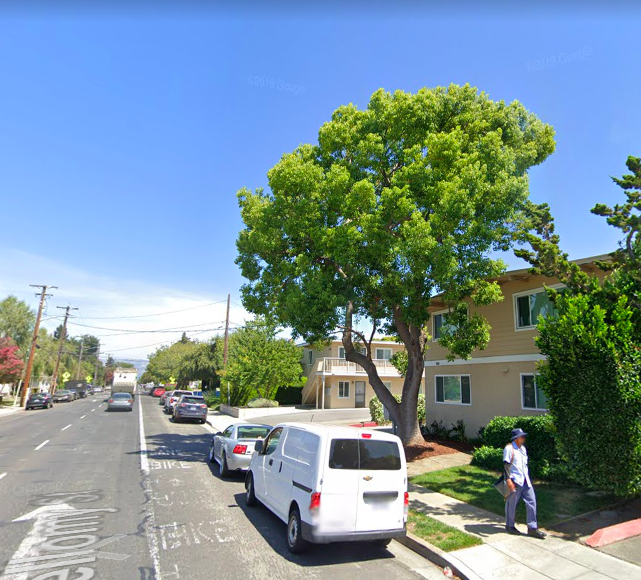tree: (234, 79, 556, 448)
